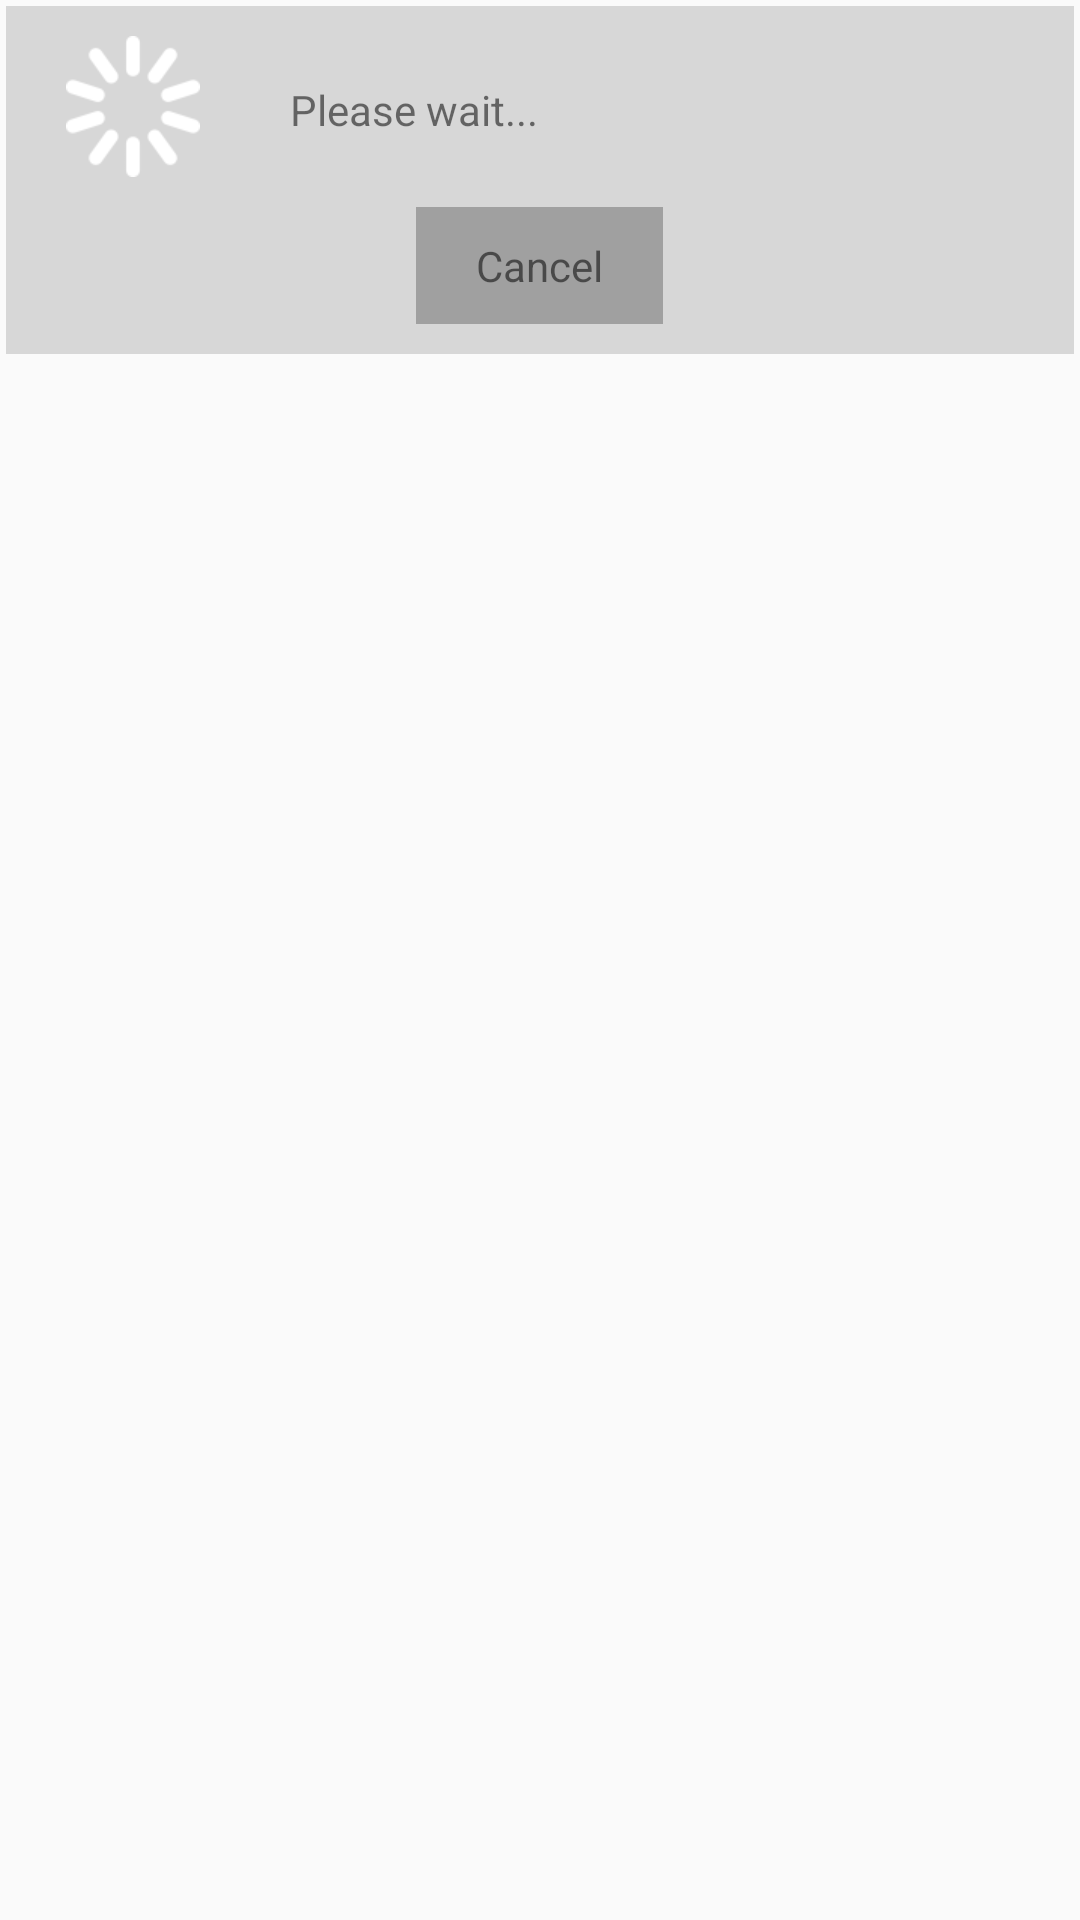

Named icons in this screenshot (1080x1920) and their centers, (x,y):
waiting: (133,106)
